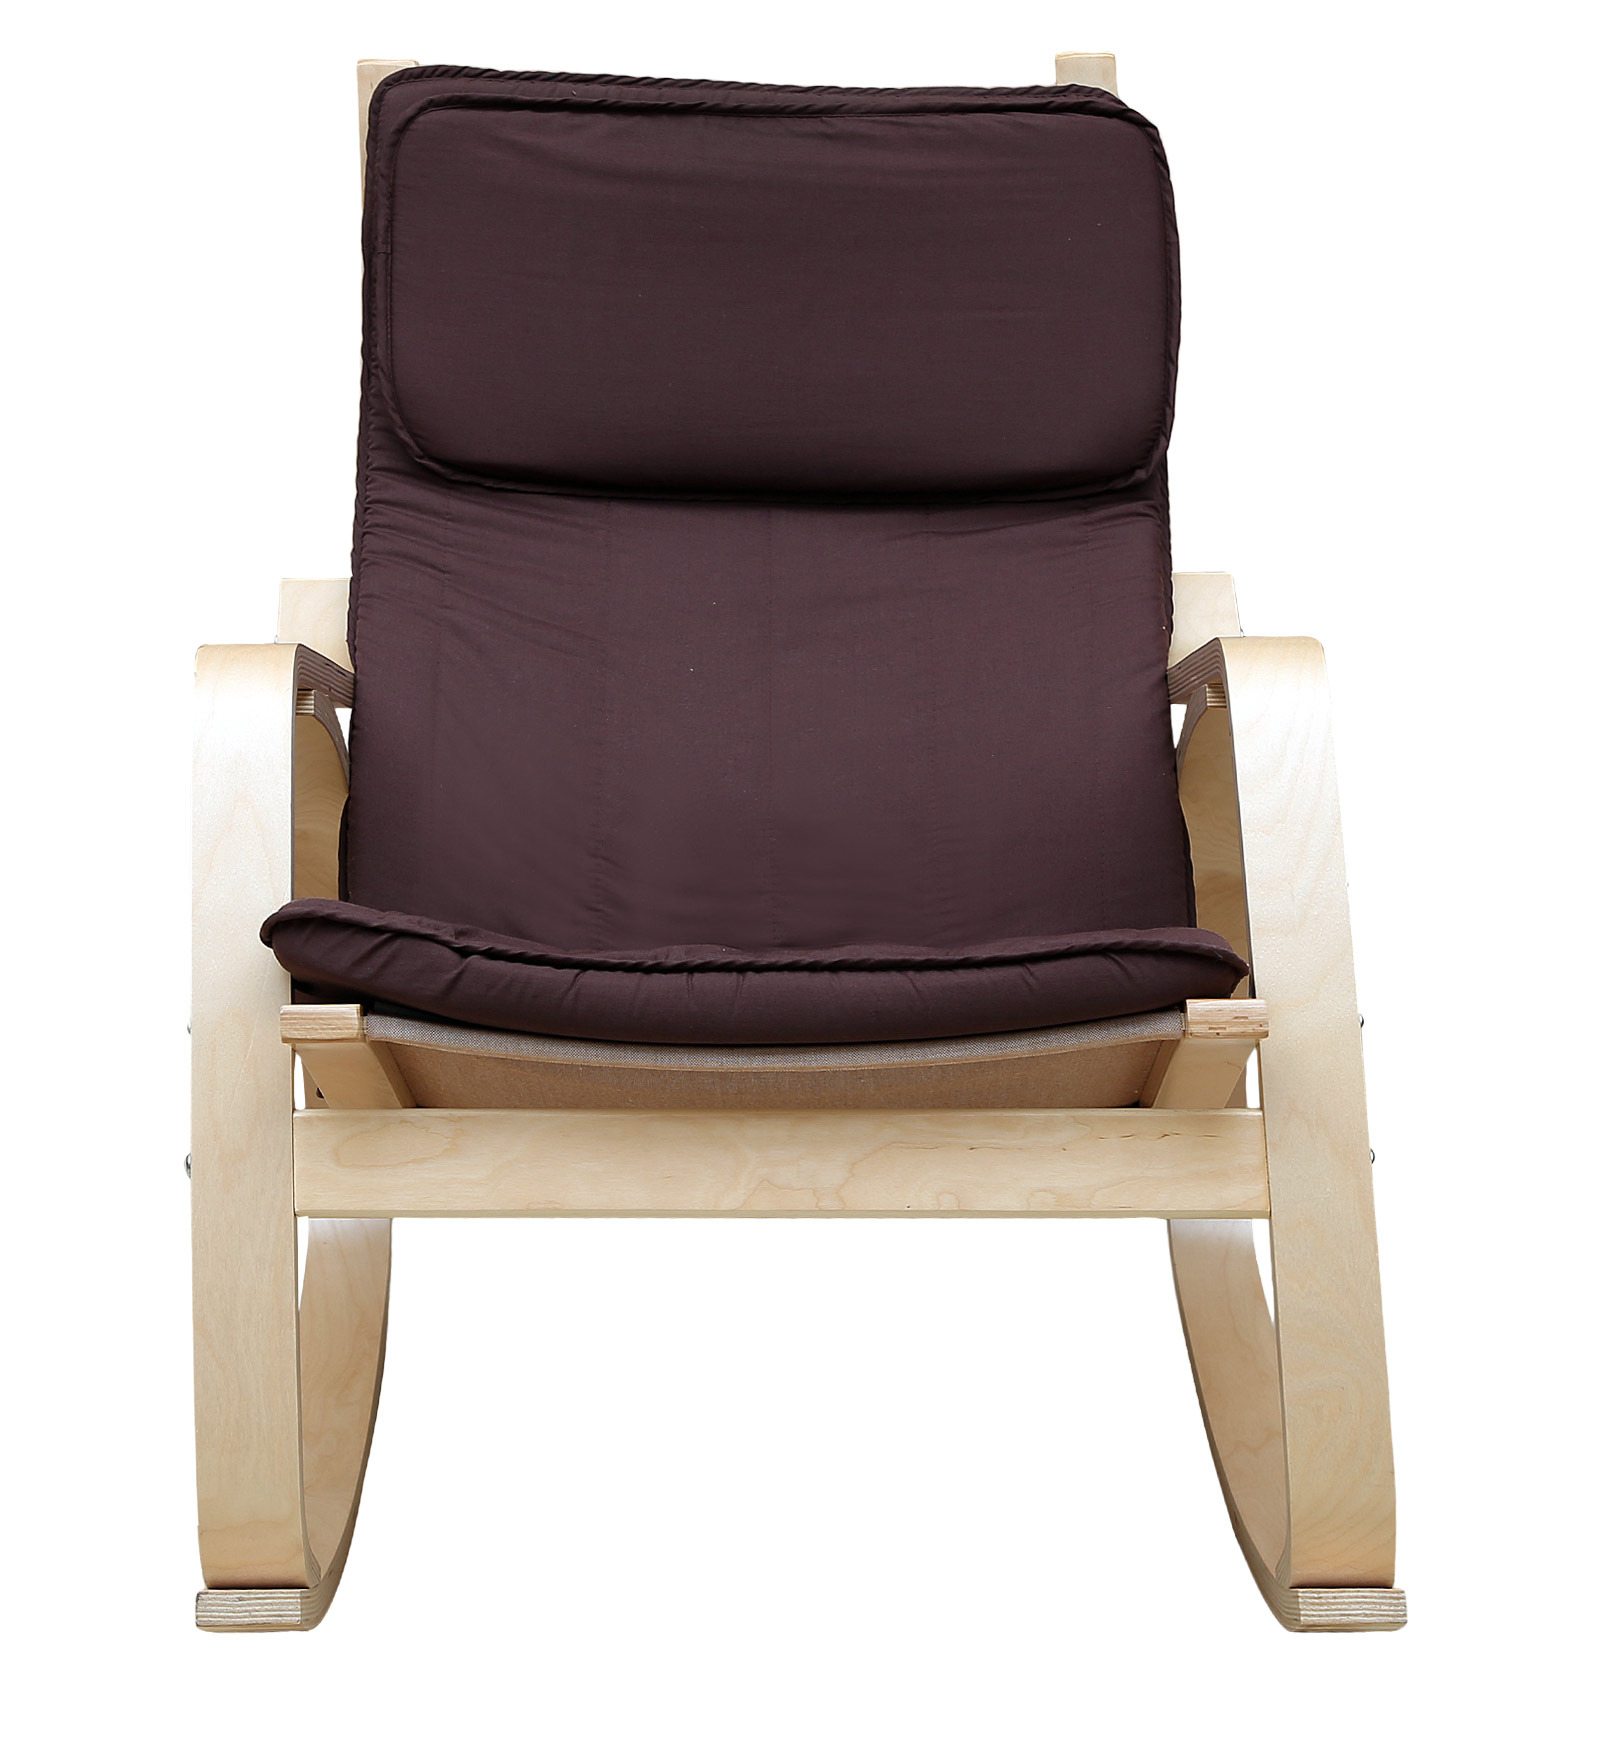Vita Rocking Chair with Brown Cushion by HomeTown: (126, 35, 1477, 1648)
